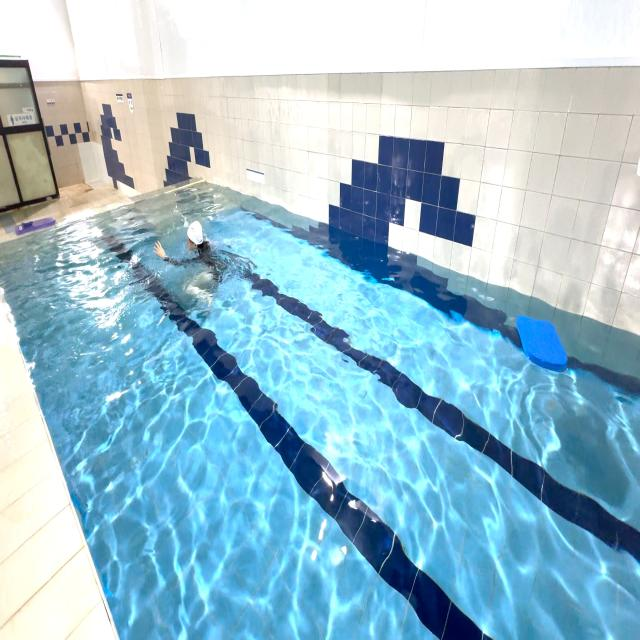Drowning: (148, 199, 250, 332)
